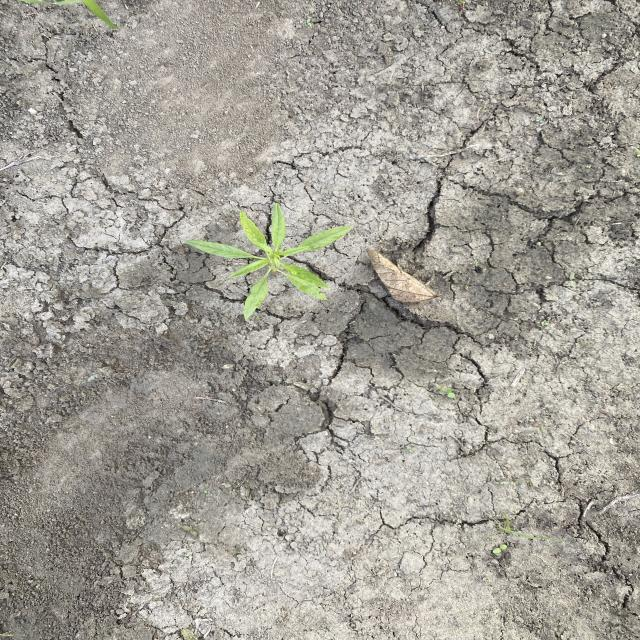Waterhemp: (178, 201, 356, 322)
